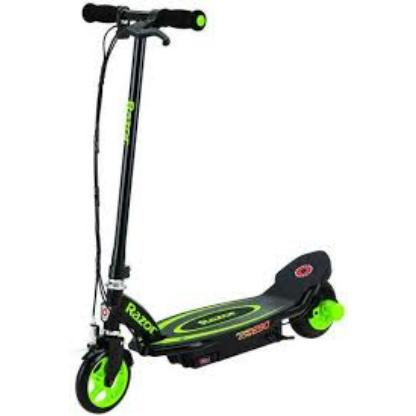bike: (72, 1, 347, 415)
